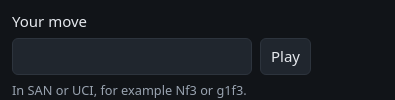
Scenario: PuzzleBoard › promotion › works from the text field too, and can be cancelled
This screenshot has width=395, height=100.
Later steps or results of the test are not shown.
(page scrolled)
Type "e8" into the field labelled "Your move" at (132, 56), box [12,38,252,74]
Then press Enter
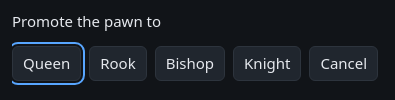
Click the button "Cancel" at (344, 63), box [309,46,378,80]
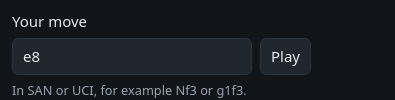
Expected: the text "Promote the pawn to" is gone
